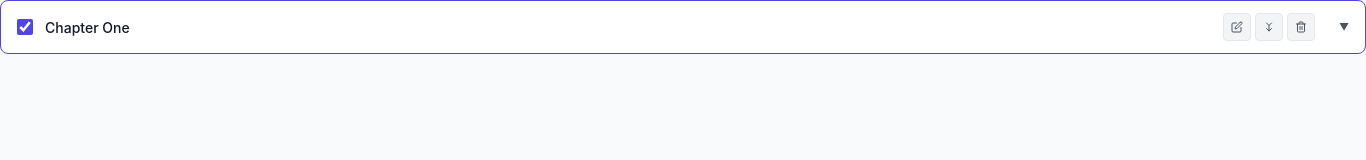
Test: clicking the title opens a closed chapter
Step 1. Click the text "Chapter One" → (87, 27), box [45, 18, 130, 36]
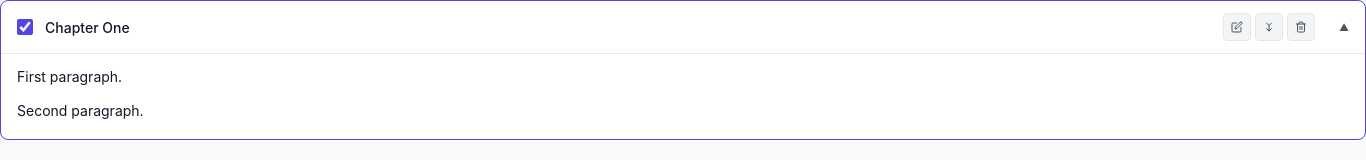
Result: the text "First paragraph." is shown at [17, 68, 122, 85]
